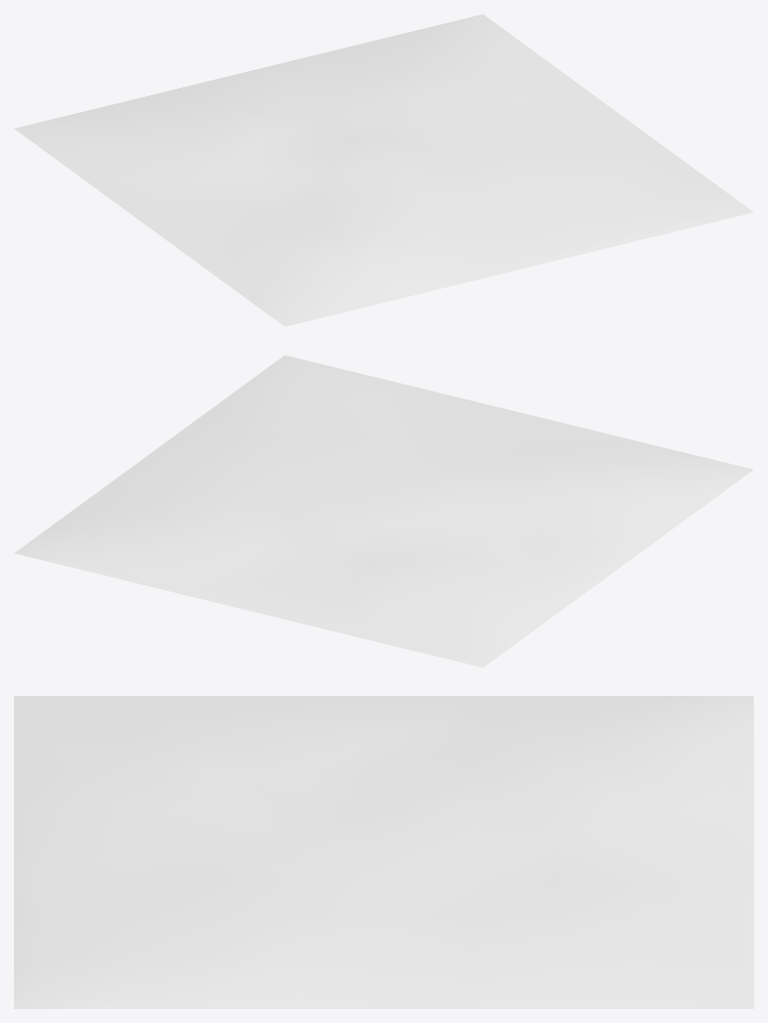
The model's file is Env_Dirt_Large_Watered_01.glb.
3 renders of one model, top to bottom at view 1: azimuth 30°, elevation 25°; view 2: azimuth 150°, elevation 25°; view 3: azimuth 270°, elevation 25°, orthographic. The views are drawn at different scales.
Parts seen in each view (by area): view 1: Env_Dirt_Large_Watered_01; view 2: Env_Dirt_Large_Watered_01; view 3: Env_Dirt_Large_Watered_01.
Boxes of the visible parts, left/top/right/bottom form: Env_Dirt_Large_Watered_01: left=14, top=14, right=753, bottom=326; Env_Dirt_Large_Watered_01: left=14, top=355, right=753, bottom=667; Env_Dirt_Large_Watered_01: left=14, top=696, right=753, bottom=1008.
Bounding box in the file's own units: 2 × 0.0365 × 2.
Materials: 1 (1 with a texture image).
